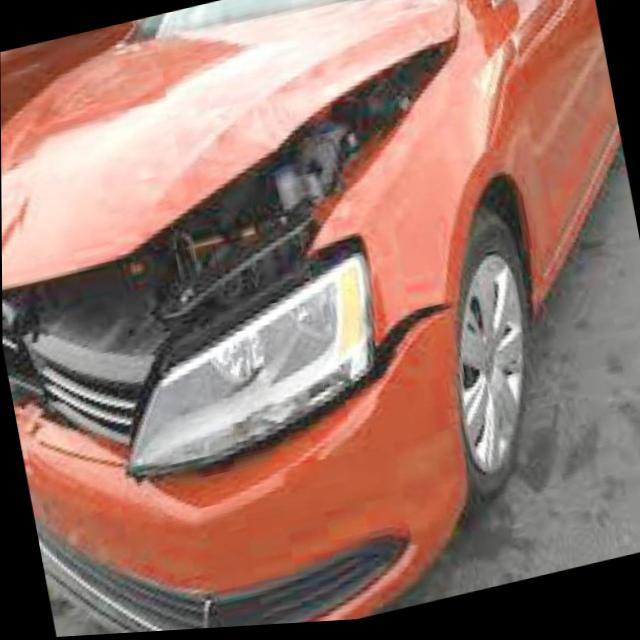Car-Damage: (0, 29, 516, 476), (101, 299, 481, 522)
